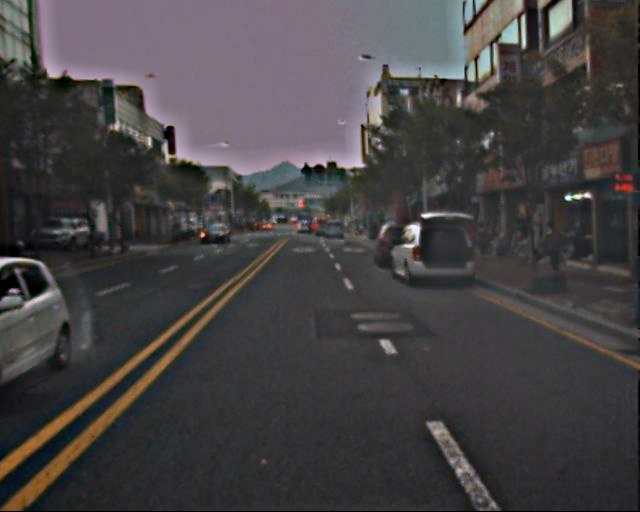person: (540, 225, 564, 281), (475, 223, 490, 259)
